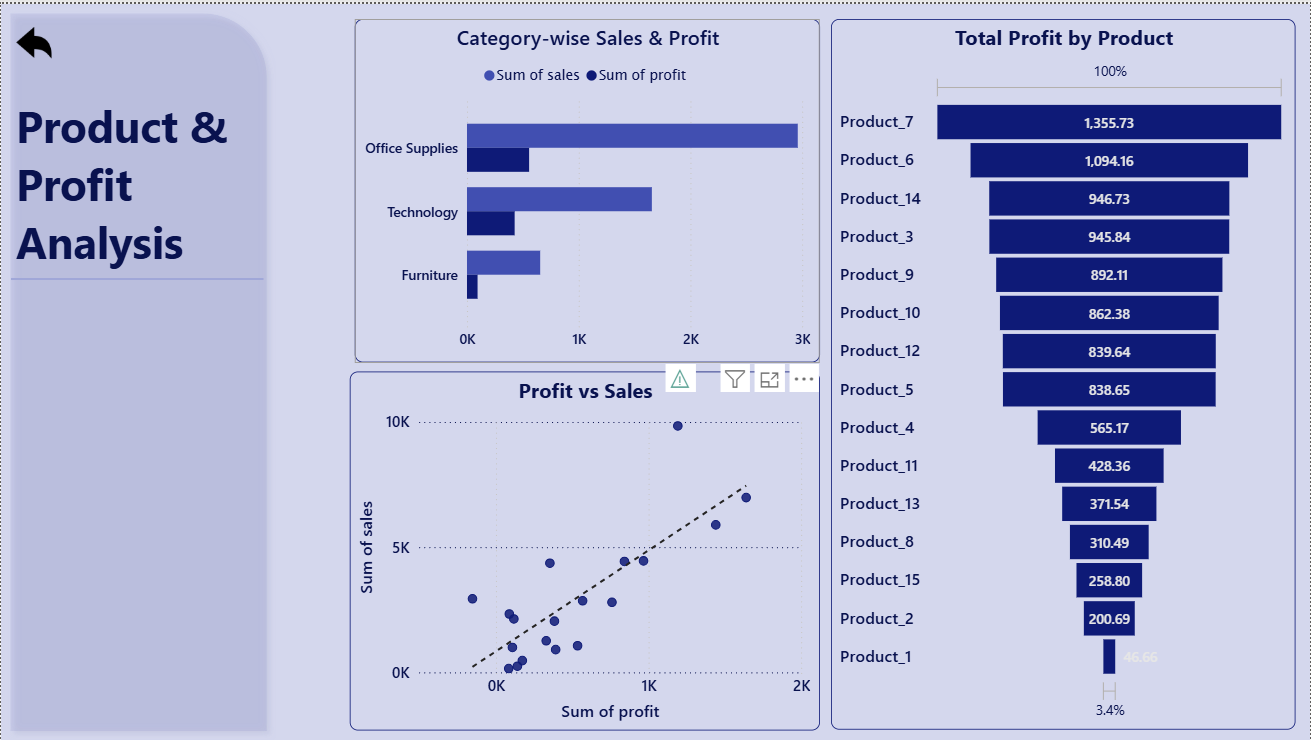

The dashboard page shown, as its layout file describes it:
{"tool":"powerbi","page":{"name":"Product & Profit Analysis","canvas":[1280,720],"ordinal":2},"visuals":[{"type":"shape","box":[0,0,269,720.2],"z":0},{"type":"scatterChart","title":"Profit vs Sales","fields":{"Category":["High VS Low Value.customer_id"],"X":["Sum(public cleaned_order_details.profit)"],"Y":["Sum(public cleaned_order_details.sales)"]},"box":[341.2,359.5,459.8,351],"z":2000},{"type":"clusteredBarChart","title":"Category-wise Sales & Profit","fields":{"Category":["Profit Margin.category"],"Y":["Sum(public cleaned_order_details.sales)","Sum(public cleaned_order_details.profit)"]},"box":[346.1,14.7,454.9,336.3],"z":3000},{"type":"textbox","box":[29.3,181,160.2,61.1],"z":4000},{"type":"textbox","box":[9.8,84.4,247,184.6],"z":5000},{"type":"shape","box":[9.8,196.9,247,144.3],"z":6000},{"type":"funnel","title":"Total Profit by Product","fields":{"Category":["public cleaned_products.product_name"],"Y":["public cleaned_order_details.total_profit"]},"box":[811.6,15,454.6,695.1],"z":6001},{"type":"image","box":[11,14.7,42.8,46.5],"z":6002}]}

Visuals, with their boxes in screenshot pixels (x1, y1, x2, y2), scaled from the page's 1280x720 canvas onto the 1311x740 screenshot:
shape: locate(0, 0, 276, 739)
"Profit vs Sales" scatterChart: locate(349, 369, 820, 730)
"Category-wise Sales & Profit" clusteredBarChart: locate(354, 15, 820, 361)
textbox: locate(30, 186, 194, 249)
textbox: locate(10, 87, 263, 276)
shape: locate(10, 202, 263, 351)
"Total Profit by Product" funnel: locate(831, 15, 1297, 730)
image: locate(11, 15, 55, 63)
